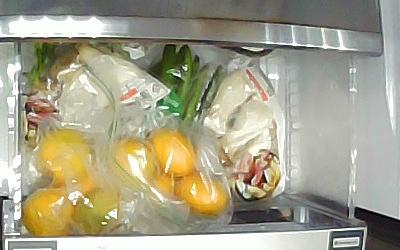tangerine_vinyl: (36, 129, 92, 188), (146, 129, 196, 179), (22, 190, 74, 238), (110, 138, 154, 191), (174, 173, 228, 216), (77, 185, 123, 235), (141, 172, 175, 212)
